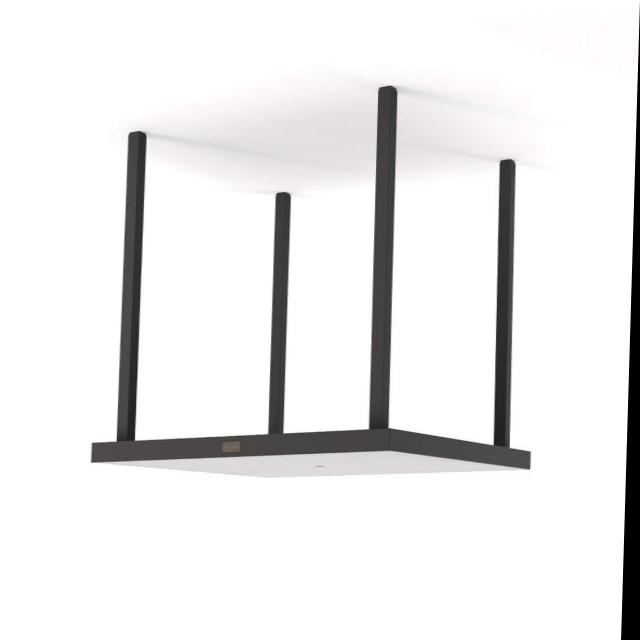Table: (79, 78, 566, 502)
